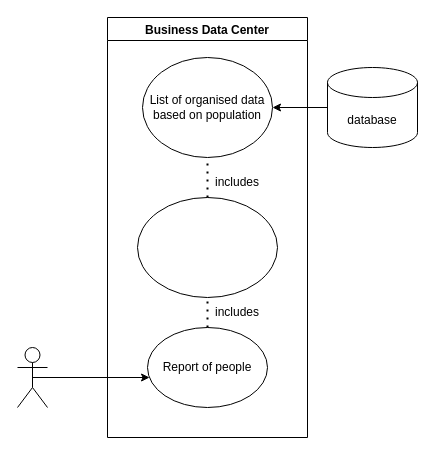
The diagram is 435 pixels wide and 455 high, and some of its shapes have lost their labels. The shapes that lost their labels are listed below. From the top down, each one's centre as x and y in pixels, then its label:
point (207, 247): List of people living in cities, not cities, top N most populated cities
point (32, 377): Actor
